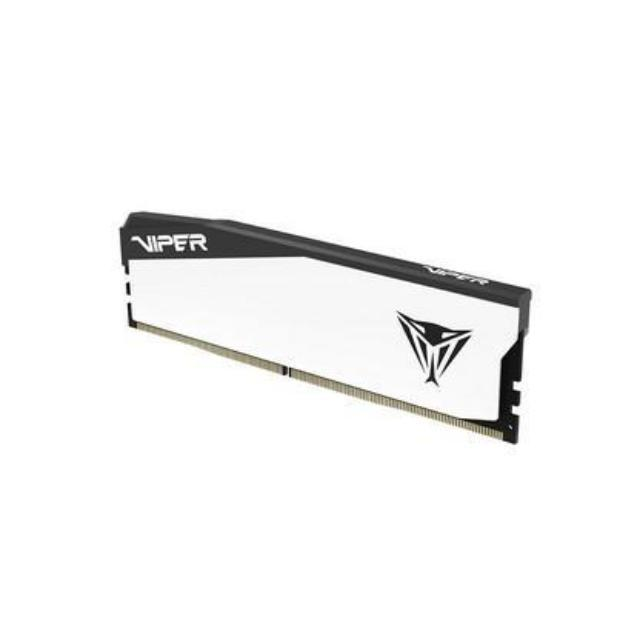RAM: (114, 199, 538, 452)
